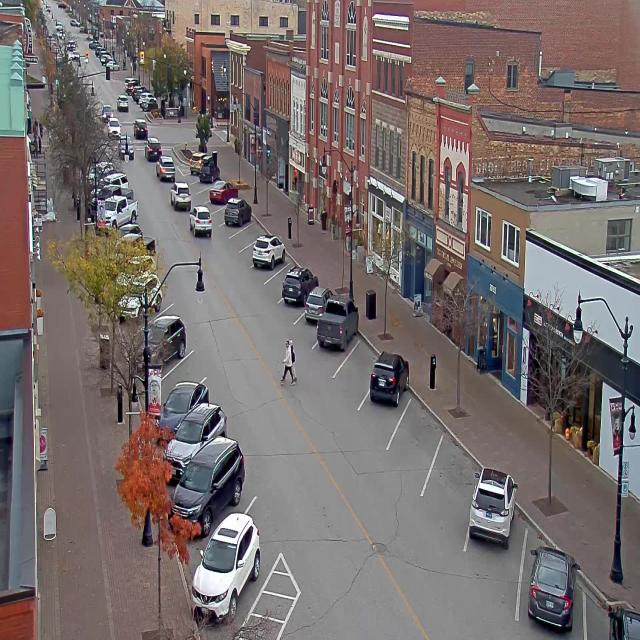available: (423, 426, 485, 520), (394, 388, 446, 467), (159, 341, 212, 390), (342, 333, 378, 390), (263, 262, 294, 304), (238, 238, 261, 276), (229, 220, 249, 253), (208, 202, 226, 227), (198, 182, 215, 204)
occupied: (169, 436, 245, 538), (196, 508, 269, 598), (527, 545, 579, 632), (468, 466, 518, 548), (155, 379, 209, 442), (182, 389, 234, 445), (590, 588, 639, 639), (316, 296, 358, 352), (368, 349, 409, 406), (143, 313, 187, 364), (282, 264, 318, 305), (302, 289, 334, 332), (252, 232, 285, 269), (224, 196, 252, 227), (208, 176, 238, 202), (198, 160, 220, 183), (189, 151, 204, 175)
